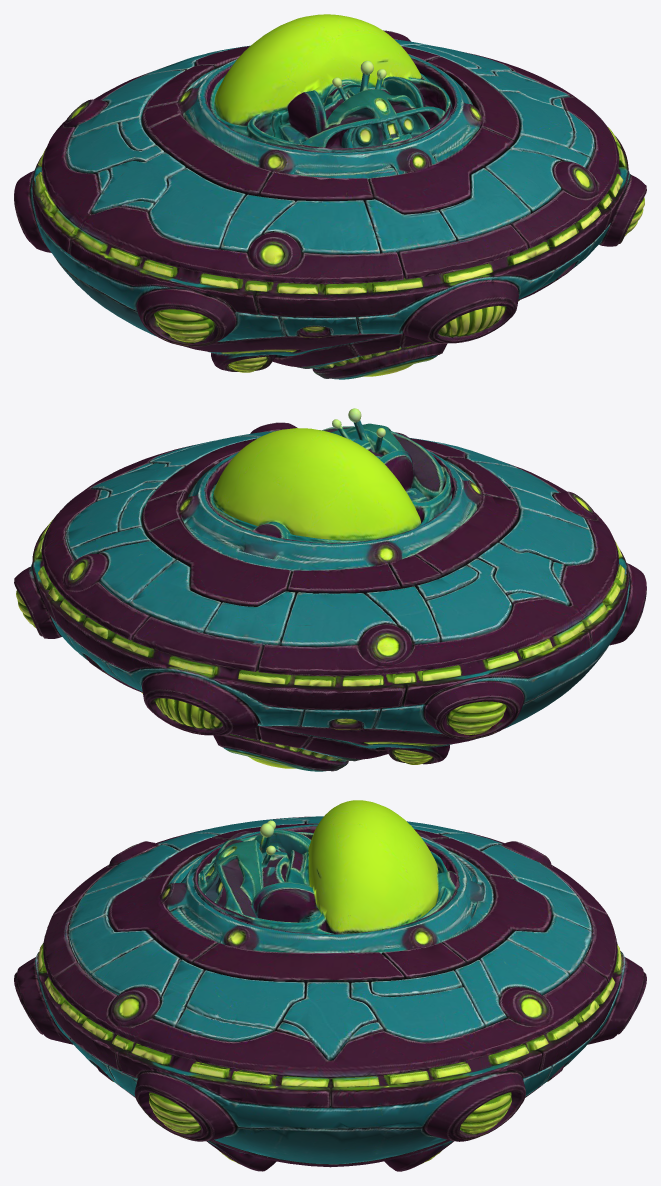
The model's file is mothership.glb.
3 views of the same model, one above another, from view 1: azimuth 30°, elevation 25°; view 2: azimuth 150°, elevation 25°; view 3: azimuth 270°, elevation 25° (orthographic). The views are drawn at different scales.
Bounding box in the file's own units: 1.88 × 1.11 × 1.9.
1 material, 1 textured.
